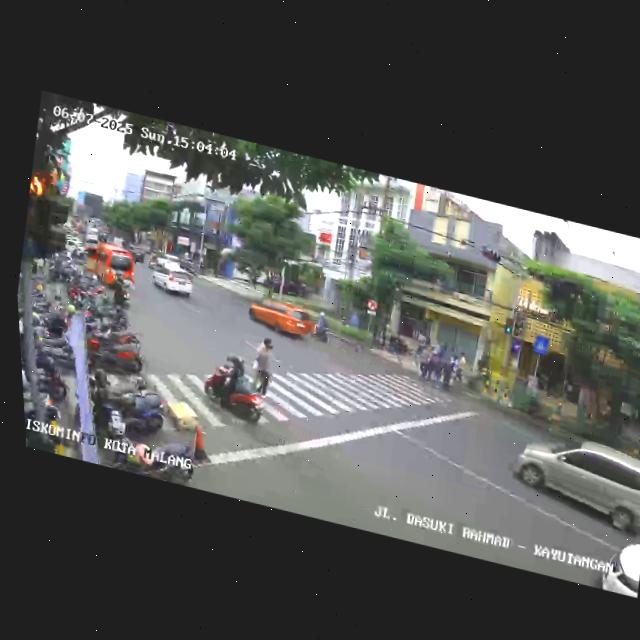car: (504, 422, 640, 541), (246, 294, 315, 346), (77, 238, 139, 295), (599, 526, 640, 599), (147, 260, 198, 301)
motorcycle: (197, 351, 272, 431), (111, 269, 138, 312), (311, 310, 335, 345)
person: (245, 334, 283, 404), (439, 354, 460, 392), (416, 344, 432, 382), (431, 349, 446, 386)
